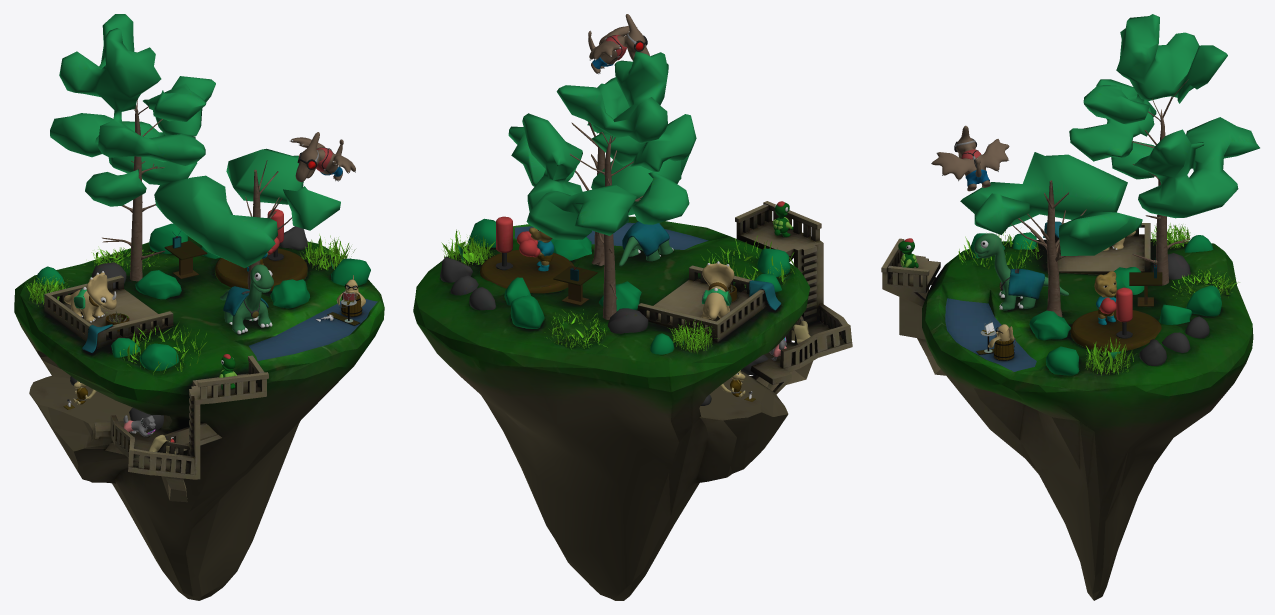
Rendered from turtle_land.glb.
3 renders of one model, left to right at view 1: azimuth 30°, elevation 25°; view 2: azimuth 150°, elevation 25°; view 3: azimuth 270°, elevation 25°, orthographic. The views are drawn at different scales.
Visible parts, largest first — view 1: Material1 (×4); view 2: Material1 (×4); view 3: Material1 (×4).
Part boxes in pixels (box(x1,y1,x2,y2)): Material1 (×4): box(14, 14, 384, 600); Material1 (×4): box(413, 14, 852, 600); Material1 (×4): box(881, 14, 1259, 600).
Bounding box in the file's own units: 3314 × 5692 × 3518.
4 materials, 4 textured.
